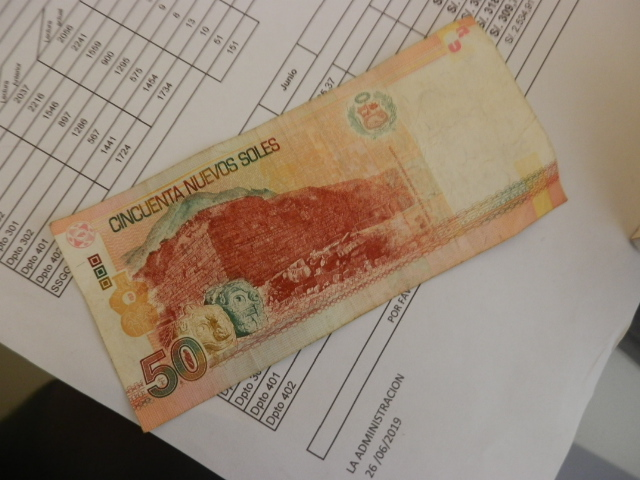B50: (65, 46, 562, 419)
